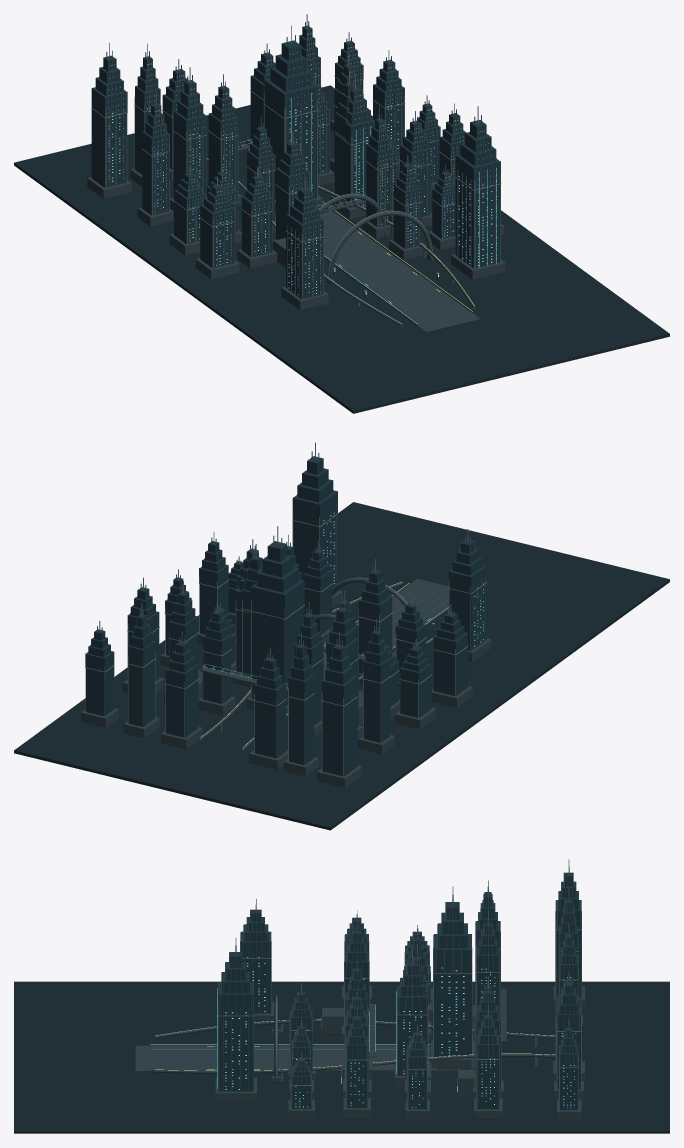
File: machine-city-landing-depth.glb
3 views of the same model, one above another, from view 1: azimuth 30°, elevation 25°; view 2: azimuth 150°, elevation 25°; view 3: azimuth 270°, elevation 25° (orthographic). The views are drawn at different scales.
Parts seen in each view (by area): view 1: City_DarkGlass, City_Road, City_Facade, City_Graphite, City_EdgeMetal, City_WindowBlue, GraphiteLine.002; view 2: City_DarkGlass, City_Road, City_Graphite, City_EdgeMetal, City_Facade; view 3: City_Road, City_DarkGlass, City_Graphite, City_Facade, City_EdgeMetal, GraphiteLine.001, City_WindowBlue, GraphiteLine.
Boxes of the visible parts, bbox=[...] form: City_DarkGlass: bbox=[91, 26, 500, 298]; City_Road: bbox=[14, 85, 669, 413]; City_Facade: bbox=[105, 21, 500, 306]; City_Graphite: bbox=[87, 119, 505, 331]; City_EdgeMetal: bbox=[91, 14, 501, 298]; City_WindowBlue: bbox=[108, 33, 496, 294]; GraphiteLine.002: bbox=[329, 211, 431, 279]; City_DarkGlass: bbox=[85, 456, 486, 776]; City_Road: bbox=[14, 502, 669, 830]; City_Graphite: bbox=[81, 579, 491, 787]; City_EdgeMetal: bbox=[85, 442, 487, 776]; City_Facade: bbox=[85, 451, 485, 733]; City_Road: bbox=[14, 981, 669, 1133]; City_DarkGlass: bbox=[218, 872, 581, 1109]; City_Graphite: bbox=[135, 985, 584, 1120]; City_Facade: bbox=[217, 867, 580, 1109]; City_EdgeMetal: bbox=[218, 859, 582, 1109]; GraphiteLine.001: bbox=[155, 1054, 555, 1073]; City_WindowBlue: bbox=[225, 957, 576, 1108]; GraphiteLine: bbox=[155, 1019, 555, 1038].
Bounding box in the file's own units: 70 × 38.42 × 130.
